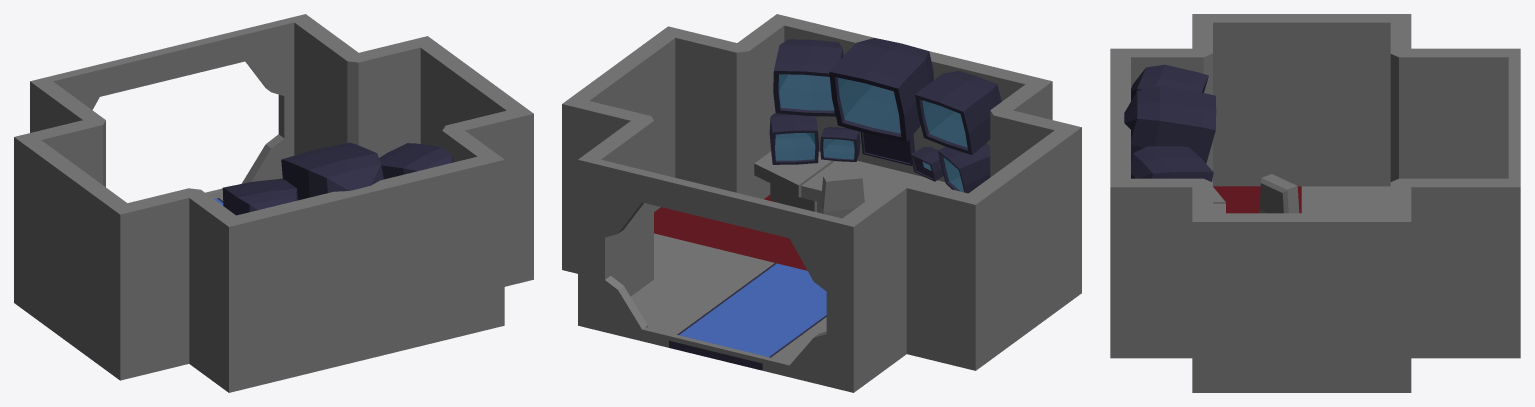
Rendered from Room_Control.glb.
3 renders of one model, left to right at view 1: azimuth 30°, elevation 25°; view 2: azimuth 150°, elevation 25°; view 3: azimuth 270°, elevation 25°, orthographic. The views are drawn at different scales.
Parts seen in each view (by area): view 1: Room_Control; view 2: Room_Control; view 3: Room_Control.
Part boxes in pixels (bbox=[...]): Room_Control: bbox=[14, 14, 533, 392]; Room_Control: bbox=[562, 14, 1081, 392]; Room_Control: bbox=[1110, 14, 1520, 392].
Size of the model in its own units: 12 by 5.03 by 10.
